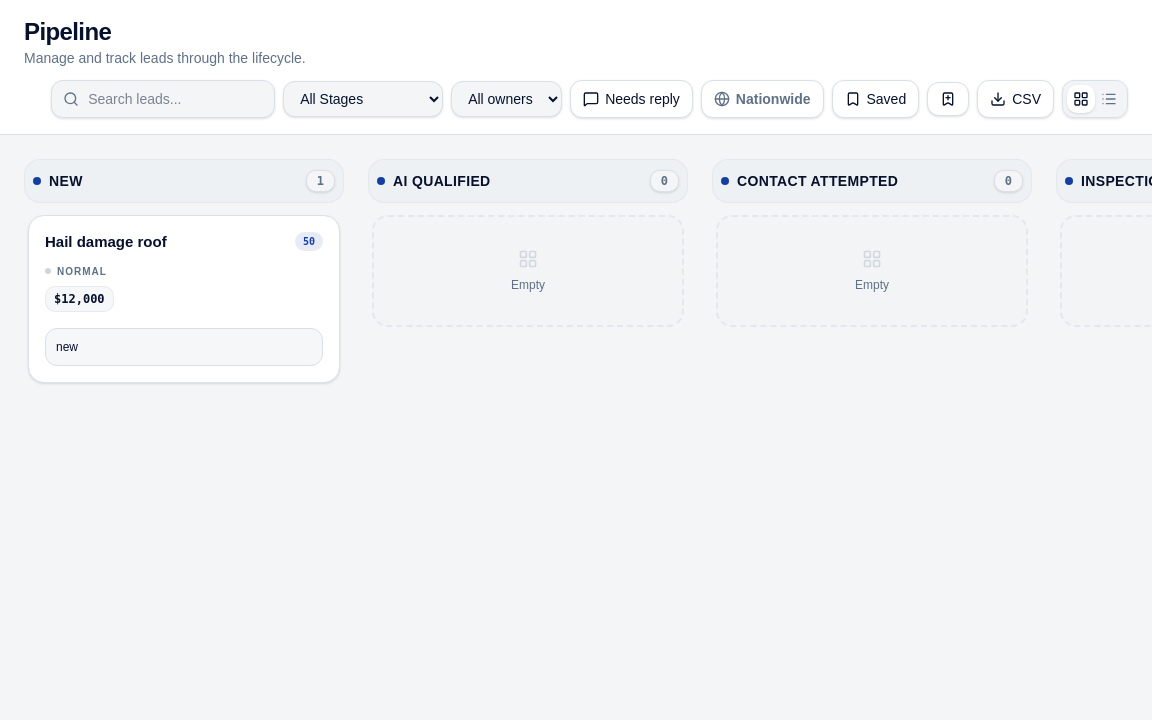
Test case: Pipeline save-filter retry toast › retries saving the filter with the same payload and dismisses on success
Click the button with test id "save-filter" at (948, 99), box [927,82,969,116]
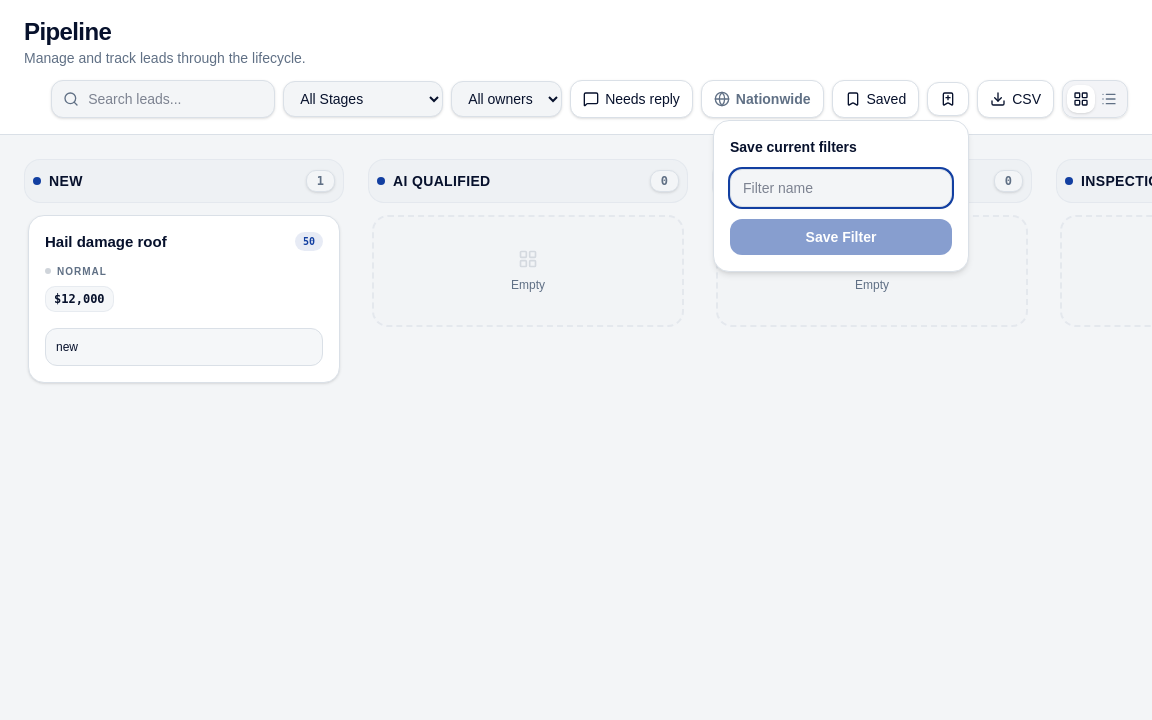
Type "My hot leads" into the field with placeholder "Filter name" at (841, 188), box [730,169,952,207]
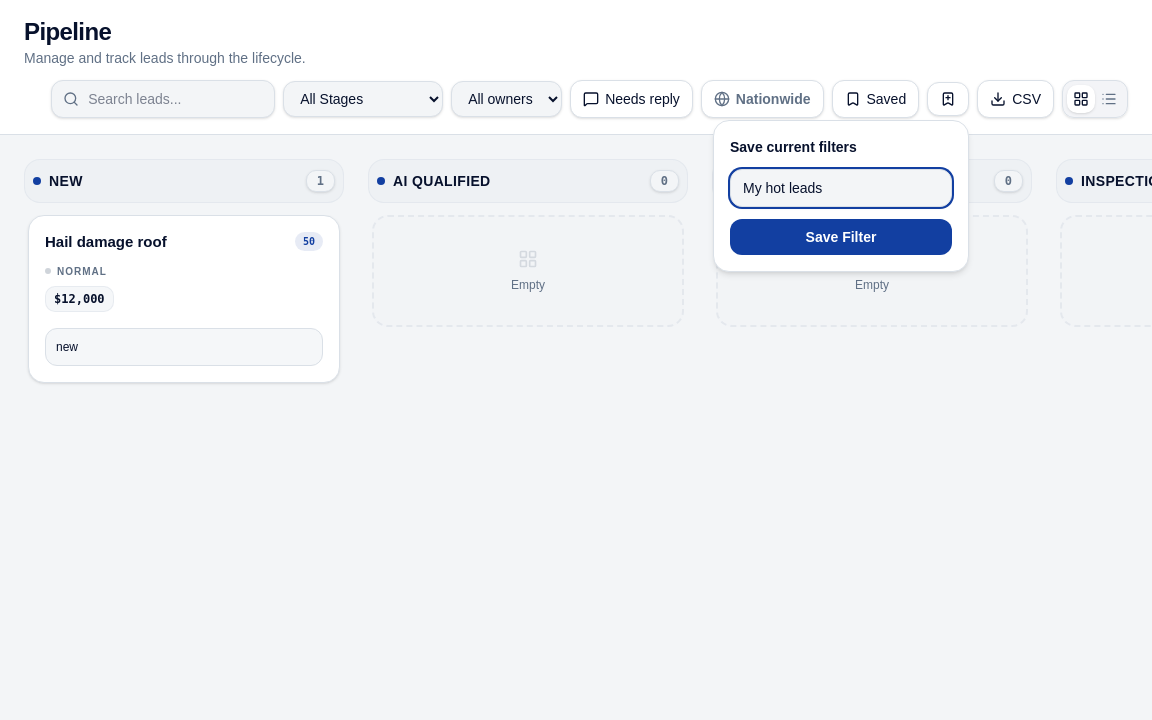
Click the button "Save Filter" at (841, 237), box [730,219,952,255]
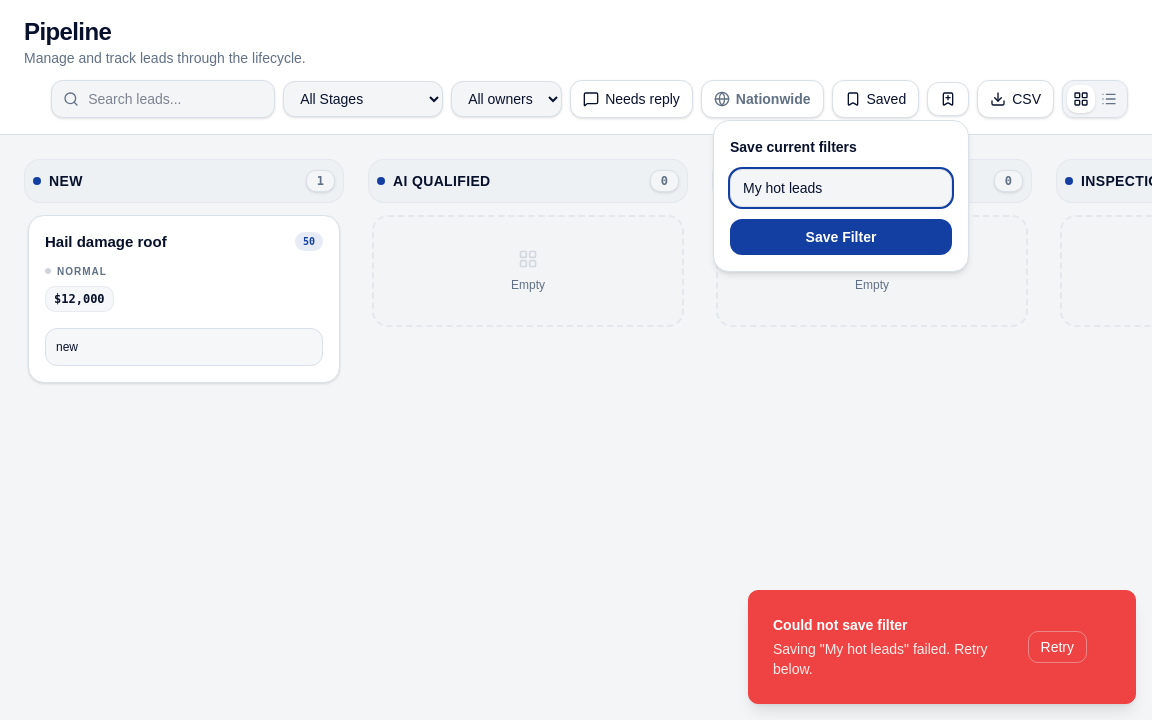
Expected: the text "Could not save filter" is shown, [773,617,908,633]
Click the button "Retry" at (1057, 647), box [1028,631,1087,663]
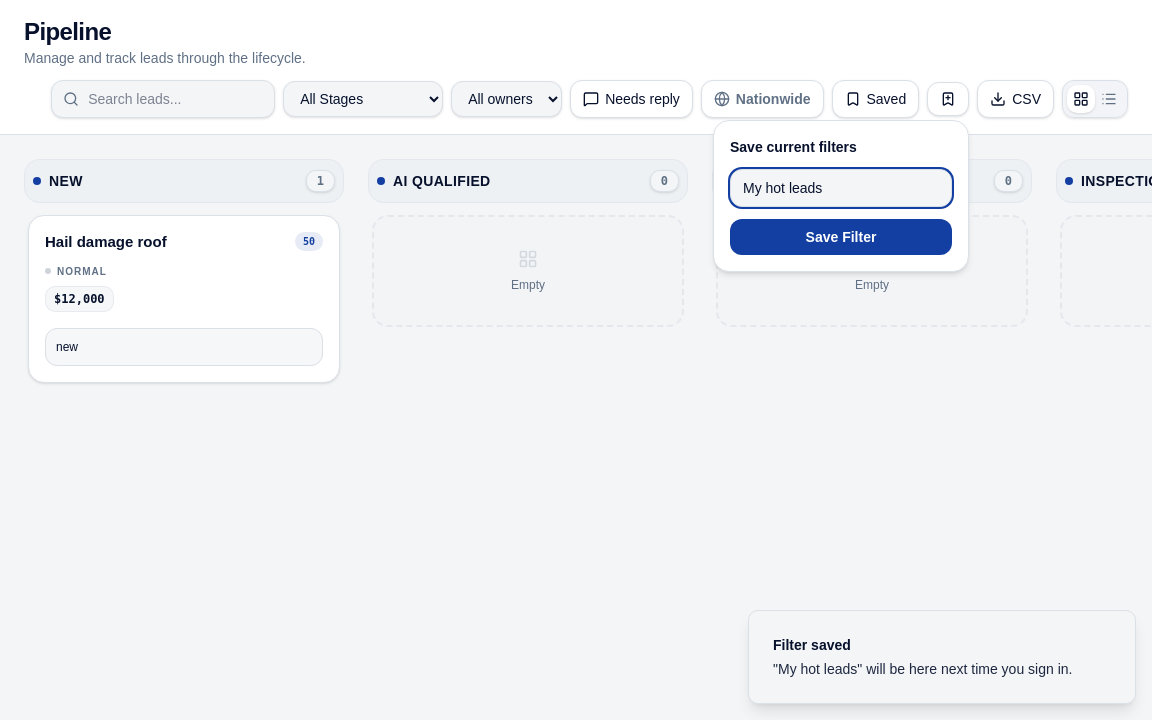
Expected: the text "Filter saved" is shown, [773,637,851,653]
Expected: the text "Could not save filter" is gone
